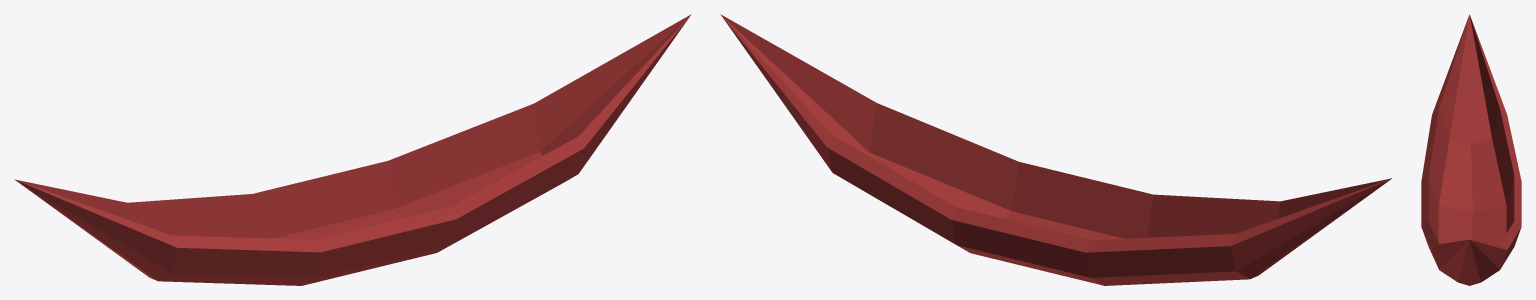
File: Hammock_1.fbx
3 views of the same model, side by side, from view 1: azimuth 30°, elevation 25°; view 2: azimuth 150°, elevation 25°; view 3: azimuth 270°, elevation 25° (orthographic). The views are drawn at different scales.
Parts seen in each view (by area): view 1: Hammock1_mesh; view 2: Hammock1_mesh; view 3: Hammock1_mesh.
Boxes of the visible parts, x1,y1,x2,y2 form: Hammock1_mesh: (14, 14, 691, 285); Hammock1_mesh: (720, 14, 1391, 285); Hammock1_mesh: (1421, 14, 1521, 285).
Size of the model in its own units: 433 by 104 by 81.23.
